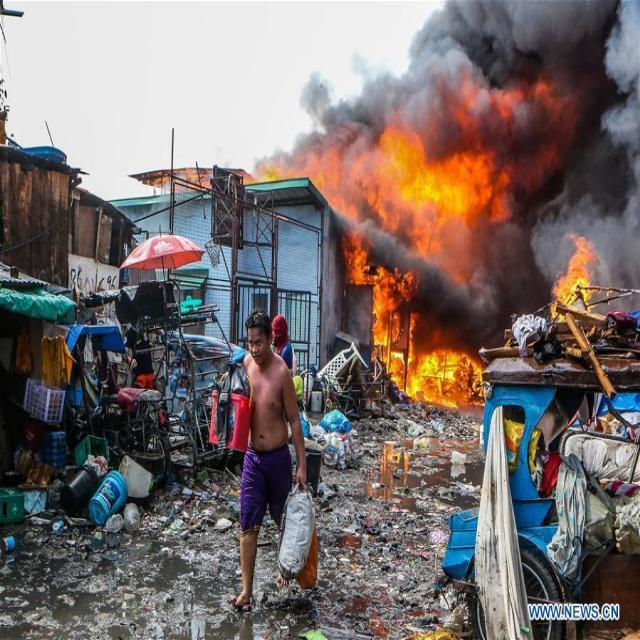Fire: (368, 266, 488, 412), (374, 126, 499, 235), (550, 229, 598, 327), (336, 215, 370, 282)
Smoke: (555, 7, 640, 268)
